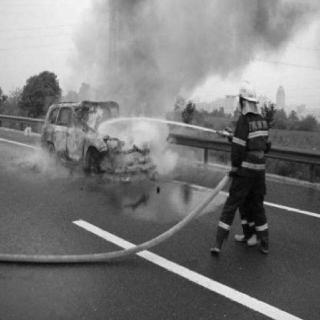Smoke: (67, 5, 297, 89)
